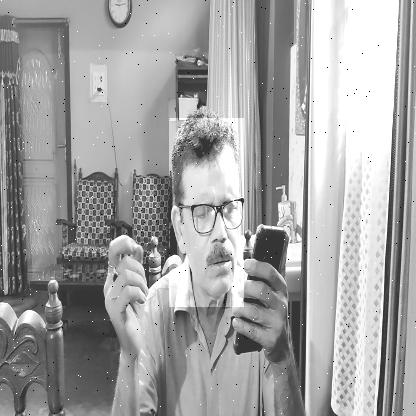Distracted: (169, 118, 244, 307)
